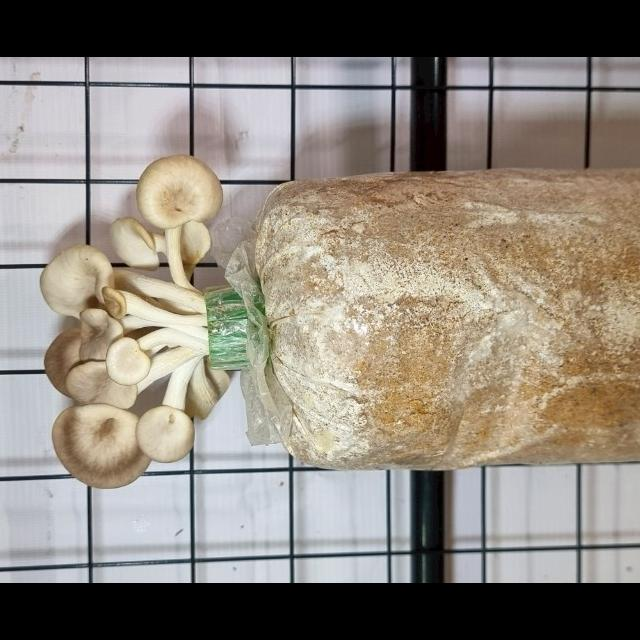normal: (40, 139, 245, 318), (37, 338, 230, 494)
